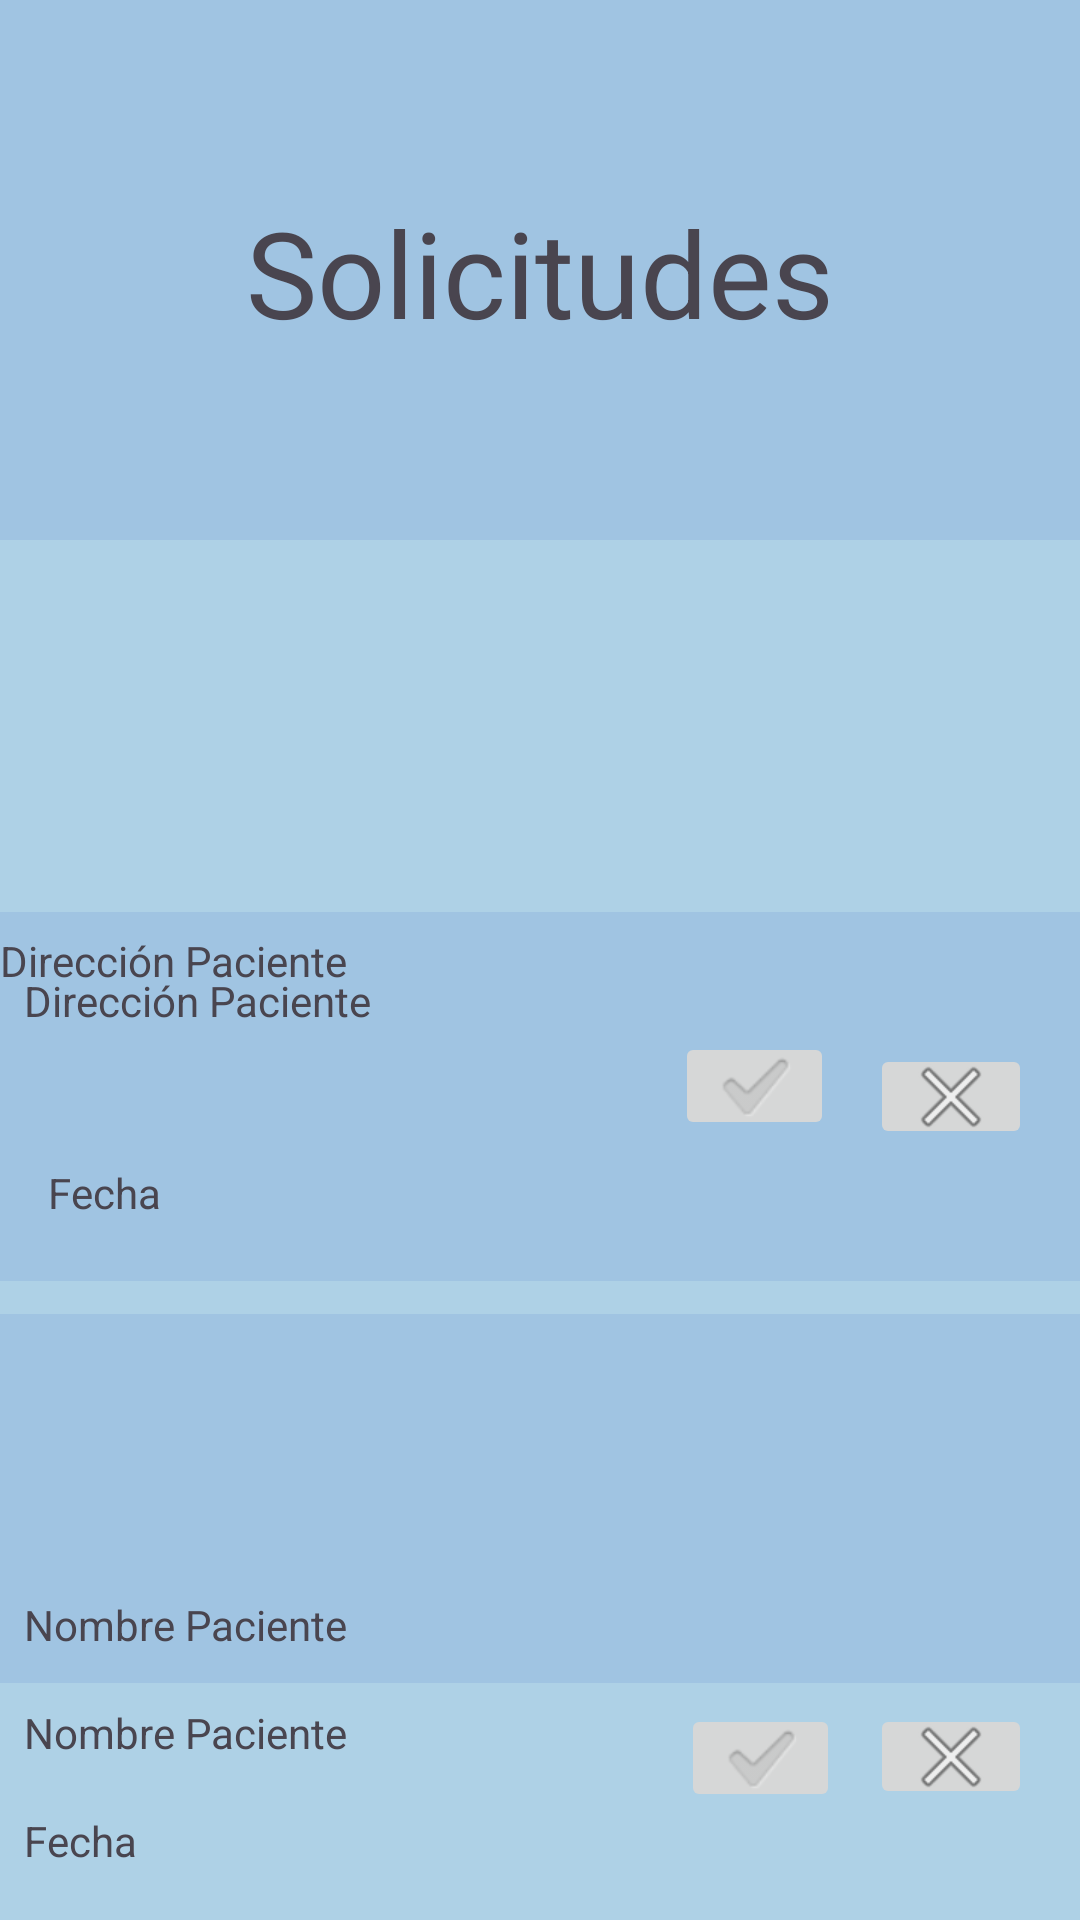

Locate icon controls on the screen. Image size 1080×1920, boxes as [x1,y1,x2,y2].
close clear cancel: [882,1062,1020,1131], [882,1722,1020,1791]
